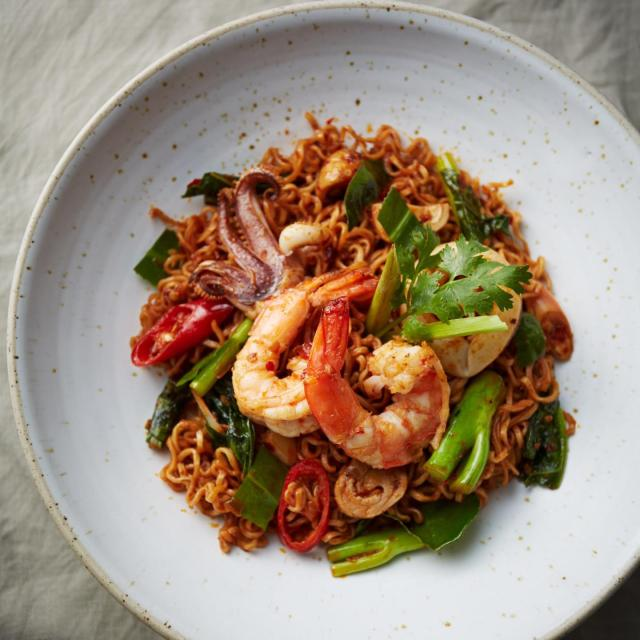carb: (272, 144, 428, 256), (182, 401, 244, 537)
meat: (322, 323, 448, 470), (256, 271, 346, 429)
stir-fried instant noodles: (142, 108, 565, 588)
vegetable: (382, 224, 513, 364), (456, 369, 501, 498), (341, 529, 466, 568)
